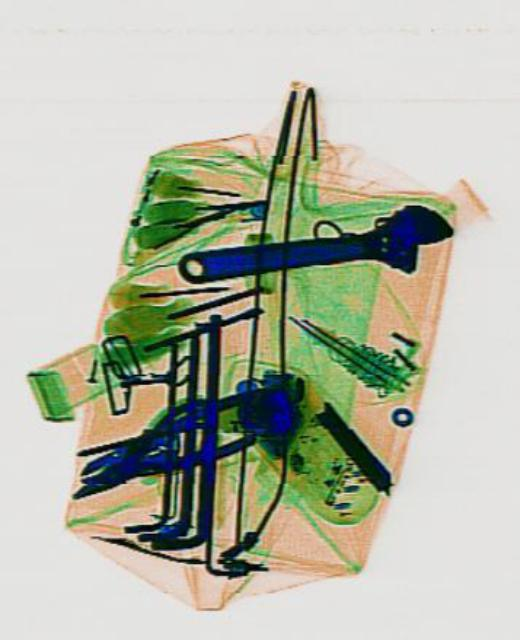Pliers: (57, 384, 234, 526), (70, 386, 261, 504)
Wrench: (170, 196, 454, 300)
